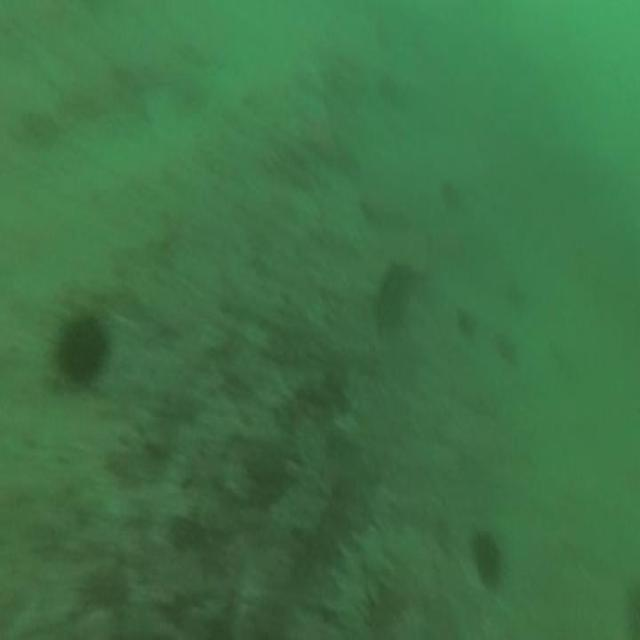echinus: (58, 316, 105, 382), (379, 262, 412, 326), (474, 528, 499, 584)
